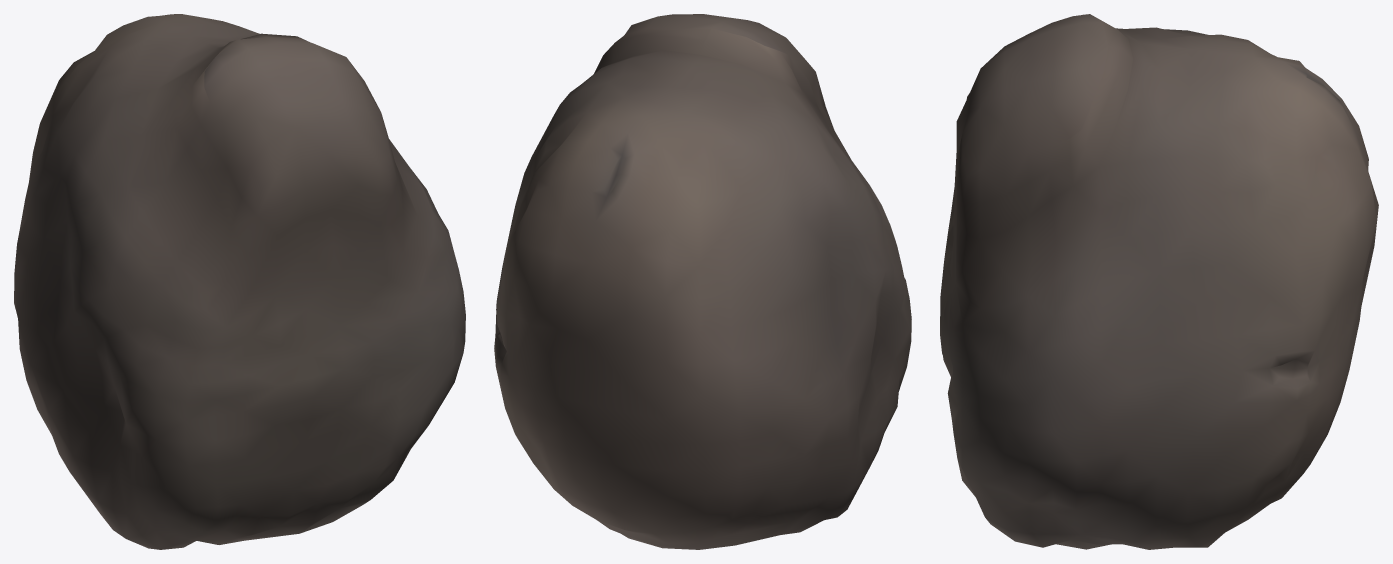
Rendered from RockLarge.005.glb.
3 renders of one model, left to right at view 1: azimuth 30°, elevation 25°; view 2: azimuth 150°, elevation 25°; view 3: azimuth 270°, elevation 25°, orthographic. The views are drawn at different scales.
Parts seen in each view (by area): view 1: RockLarge.005; view 2: RockLarge.005; view 3: RockLarge.005.
Part boxes in pixels (x1,y1,x2,y2): RockLarge.005: (14, 14, 465, 549); RockLarge.005: (494, 14, 911, 549); RockLarge.005: (940, 14, 1378, 549).
Bounding box in the file's own units: 823 × 1048 × 818.
